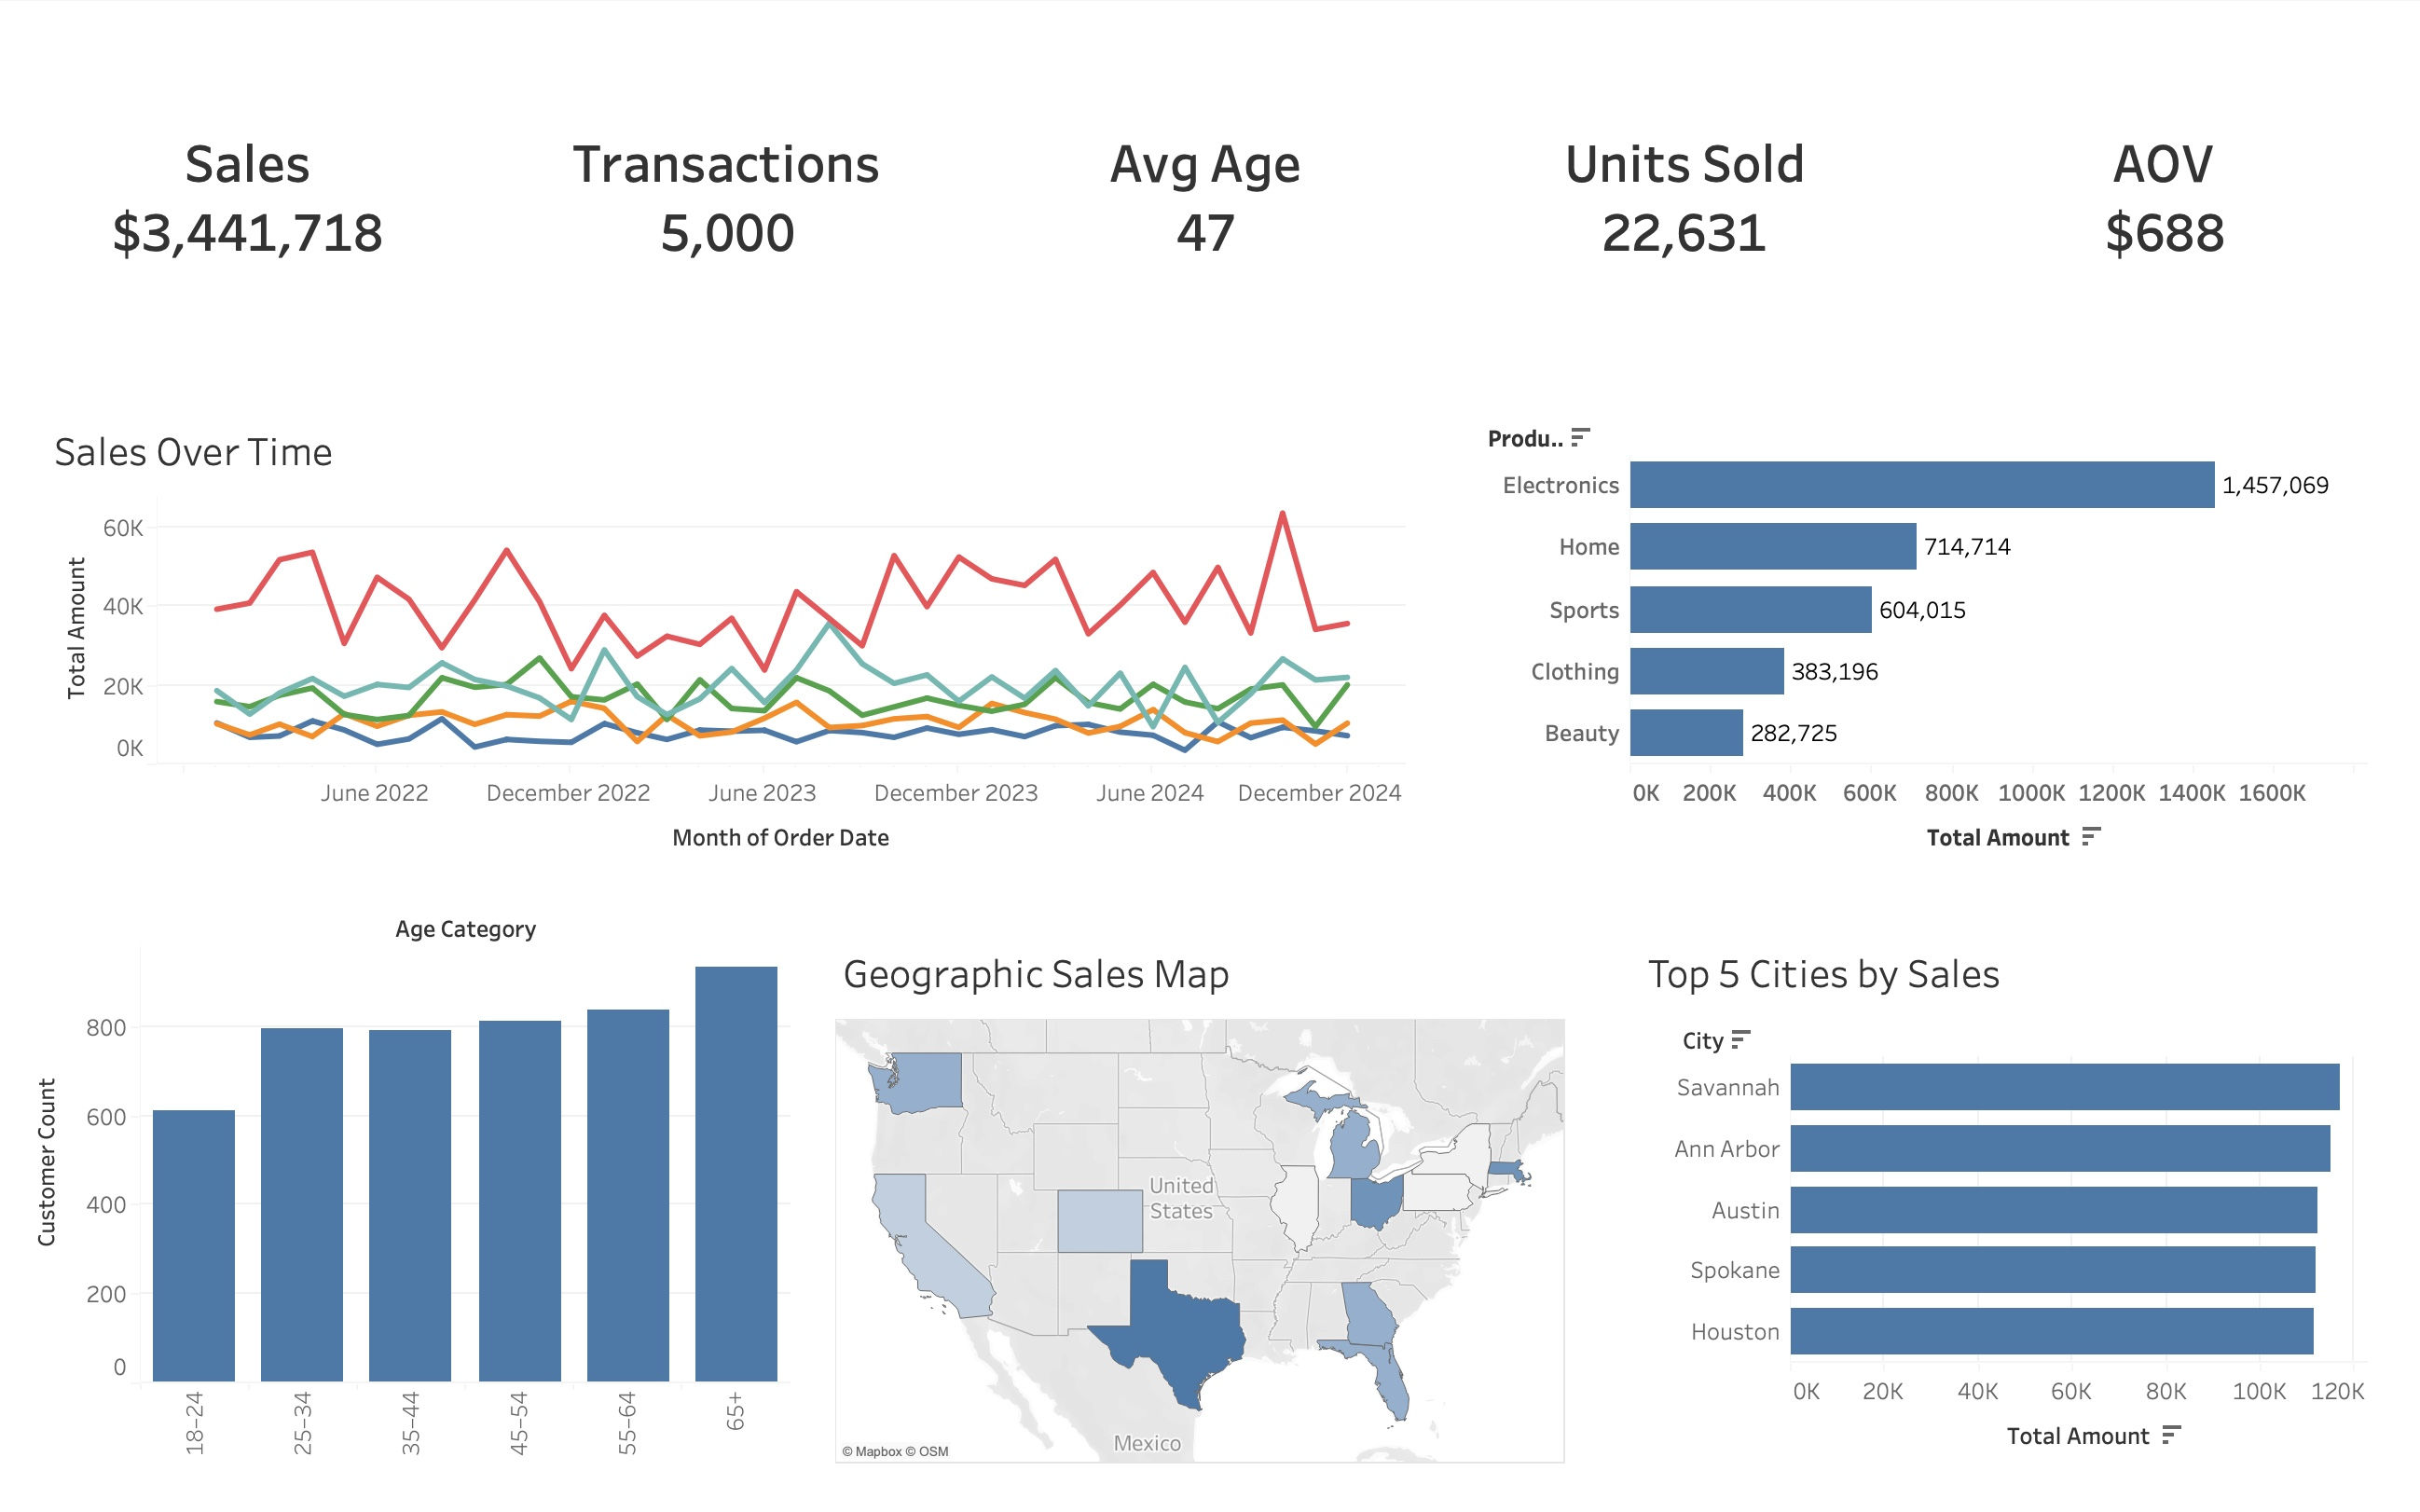

What the dashboard file says about the page in this screenshot:
{"tool":"tableau","page":{"name":"Dashboard 1","canvas":[1000,1000],"units":"permille","ordinal":0},"visuals":[{"type":"worksheet","title":"KPI: Total Sales","mark":"Automatic","box":[14.7,11.1,194.8,239.2]},{"type":"worksheet","title":"KPI: Total Transactions","mark":"Text","box":[209.6,11.1,194.8,239.2]},{"type":"worksheet","title":"KPI: Avg Customer Age","mark":"Text","box":[404.4,11.1,194.8,239.2]},{"type":"worksheet","title":"KPI: Total Units Sold","mark":"Automatic","box":[599.3,11.1,193,239.2]},{"type":"worksheet","title":"KPI: Average Order Value (AOV)","mark":"Text","box":[792.3,11.1,193,239.2]},{"type":"worksheet","title":"Sales Over Time","mark":"Line","rows":["Total_Amount"],"cols":["Order_Date"],"box":[14.7,249.9,580.8,344.2]},{"type":"worksheet","title":"Sales by Category","mark":"Automatic","rows":["Product_Category"],"cols":["Total_Amount"],"box":[595.5,249.9,389.8,344.2]},{"type":"worksheet","title":"Customer Age Distribution","mark":"Bar","rows":["Customer_ID"],"cols":["Calculation_1803128715983515648"],"box":[14.7,594,455.9,394.8]},{"type":"worksheet","title":"Geographic Sales Map","mark":"Multipolygon","box":[470.6,594,455.9,394.8]},{"type":"worksheet","title":"Top 5 Cities by Sales","mark":"Automatic","rows":["City"],"cols":["Total_Amount"],"box":[926.5,594,58.8,394.8]}]}

Visuals, with their boxes on the dashboard's canvas, which has no fixed pixel size, in thousandths of its width and height (x1, y1, x2, y2). These are canvas units, not pixel positions in the 2420x1512 screenshot, which may show the page scaled, cropped or inside an application window:
"KPI: Total Sales" worksheet: (15, 11, 210, 250)
"KPI: Total Transactions" worksheet (Text marks): (210, 11, 404, 250)
"KPI: Avg Customer Age" worksheet (Text marks): (404, 11, 599, 250)
"KPI: Total Units Sold" worksheet: (599, 11, 792, 250)
"KPI: Average Order Value (AOV)" worksheet (Text marks): (792, 11, 985, 250)
"Sales Over Time" worksheet (Line marks): (15, 250, 596, 594)
"Sales by Category" worksheet: (596, 250, 985, 594)
"Customer Age Distribution" worksheet (Bar marks): (15, 594, 471, 989)
"Geographic Sales Map" worksheet (Multipolygon marks): (471, 594, 926, 989)
"Top 5 Cities by Sales" worksheet: (926, 594, 985, 989)
